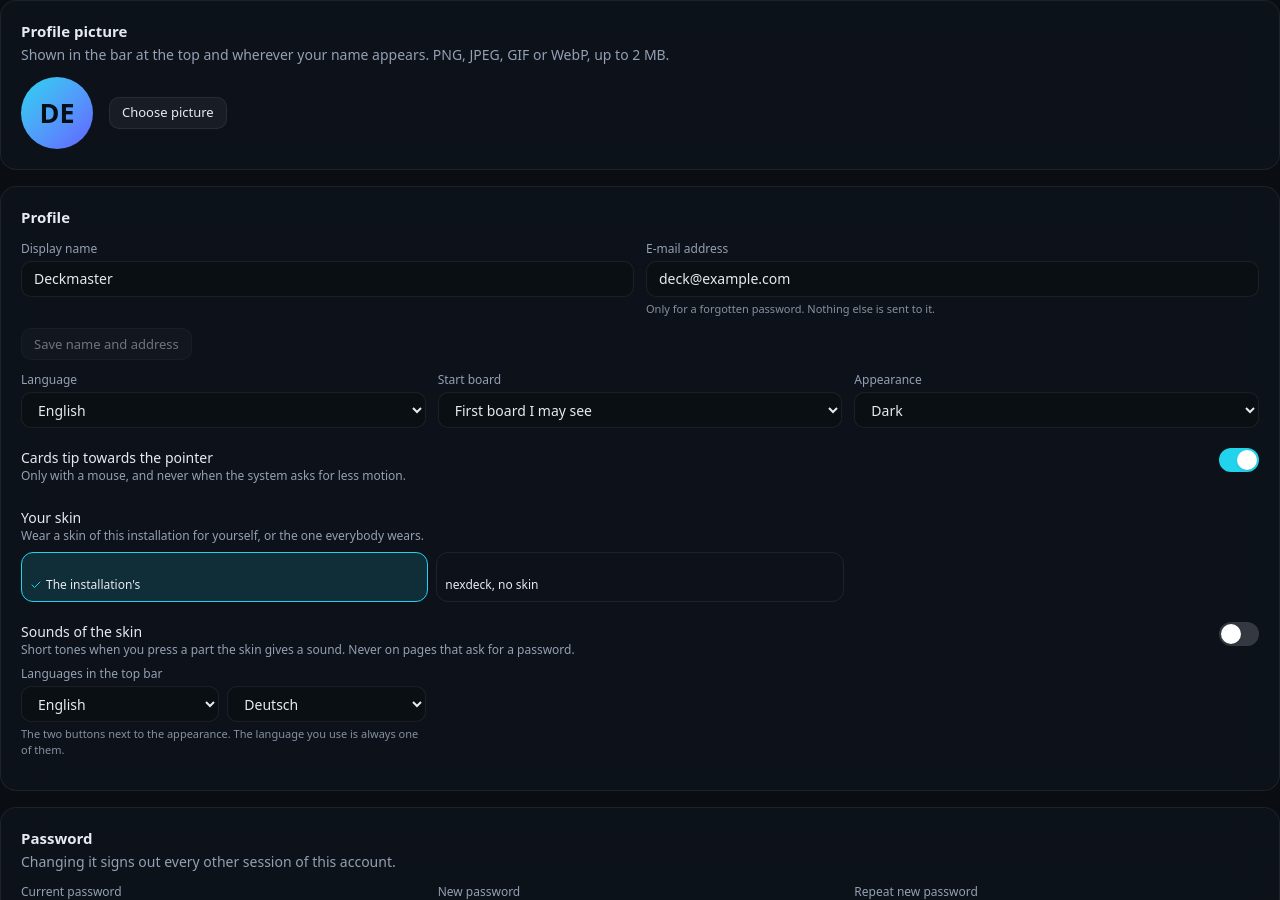
it: ProfileSettings › goes quiet again once the edit is taken back
This screenshot has width=1280, height=900.
Type "x" into the field labelled "E-mail address". click: (952, 278)
box: x1=646 y1=260 x2=1259 y2=296
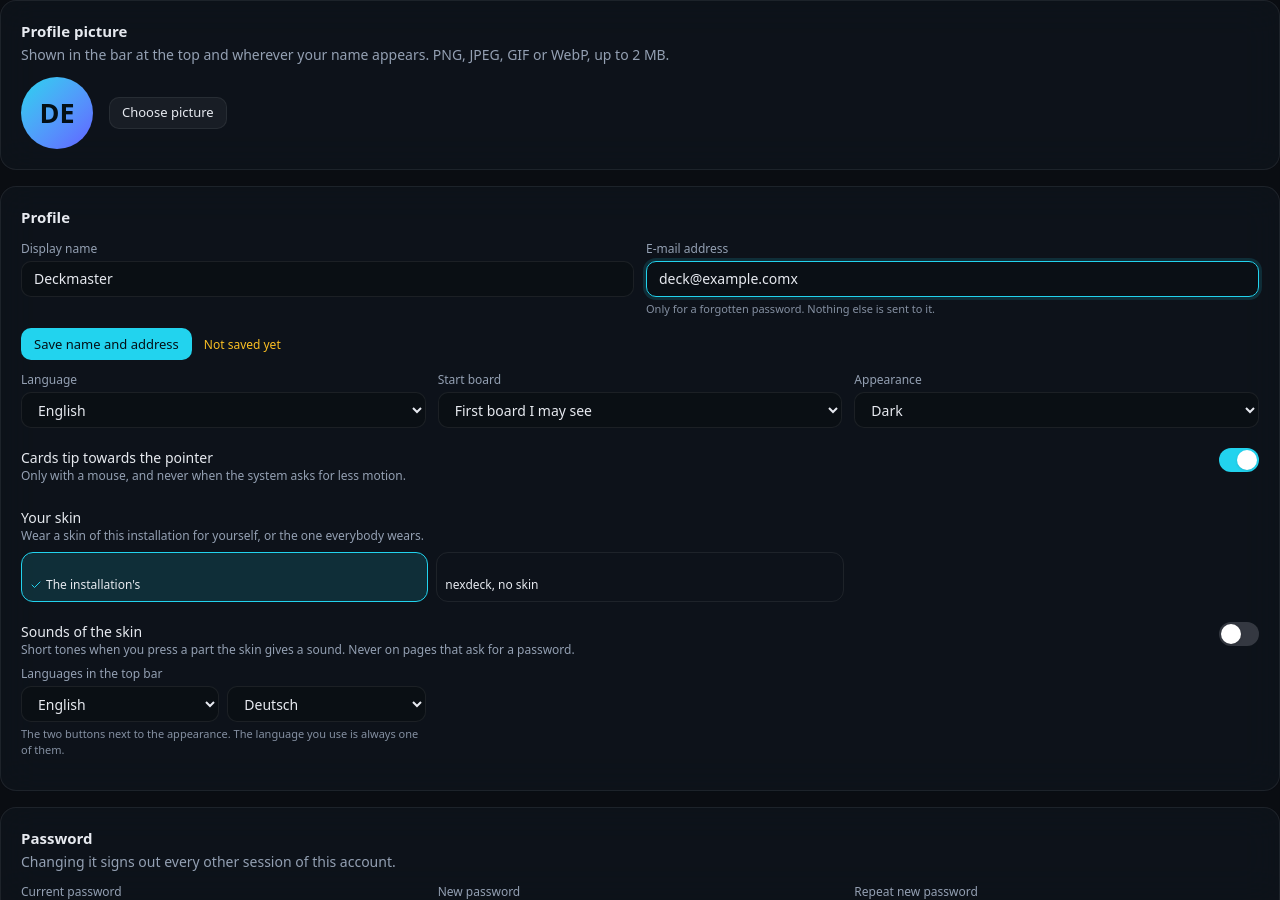
Replace the text in the field labelled "E-mail address" with "deck@example.com". click: (952, 278)
box: x1=646 y1=260 x2=1259 y2=296
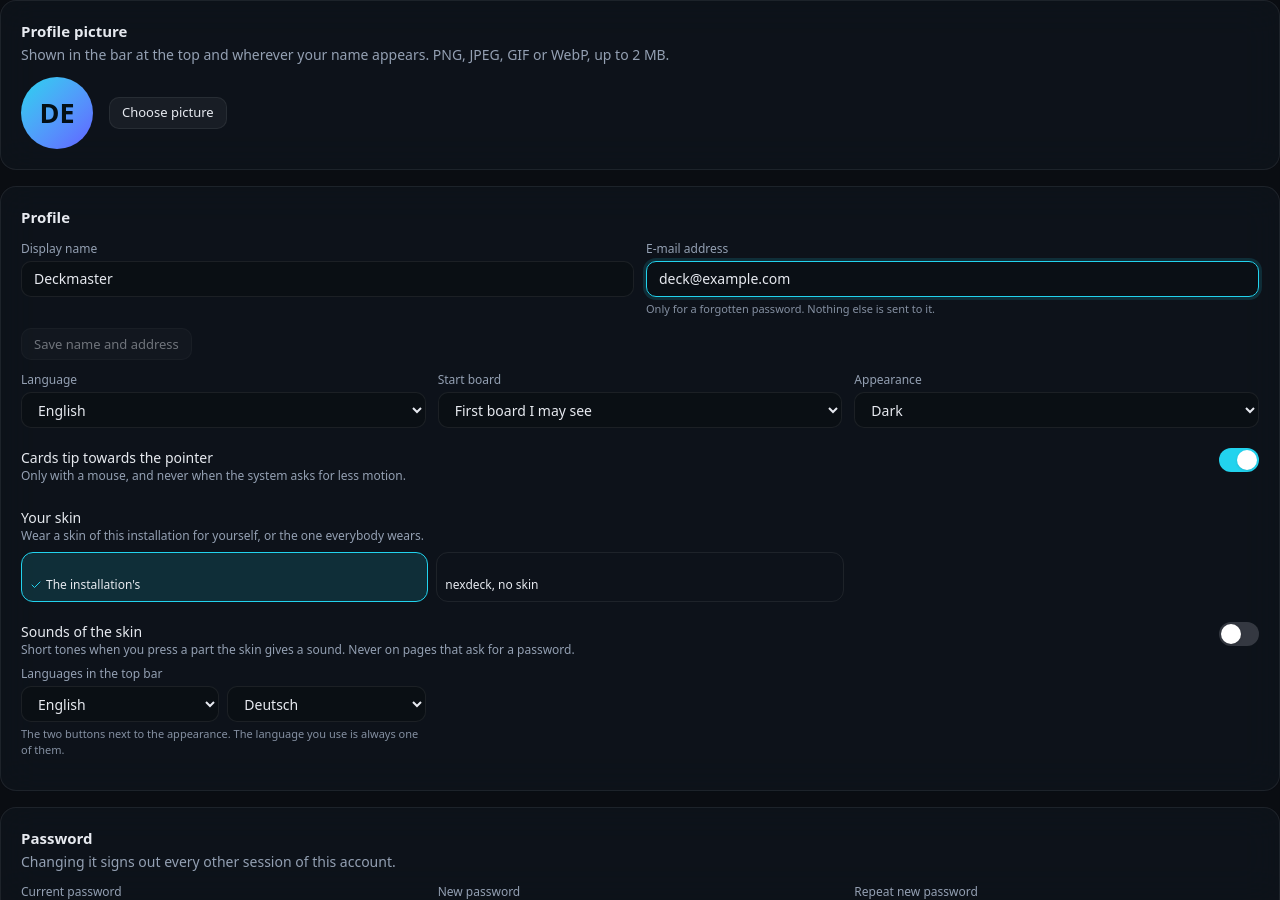
Result: the button "Save name and address" is disabled at x1=21 y1=328 x2=192 y2=360
